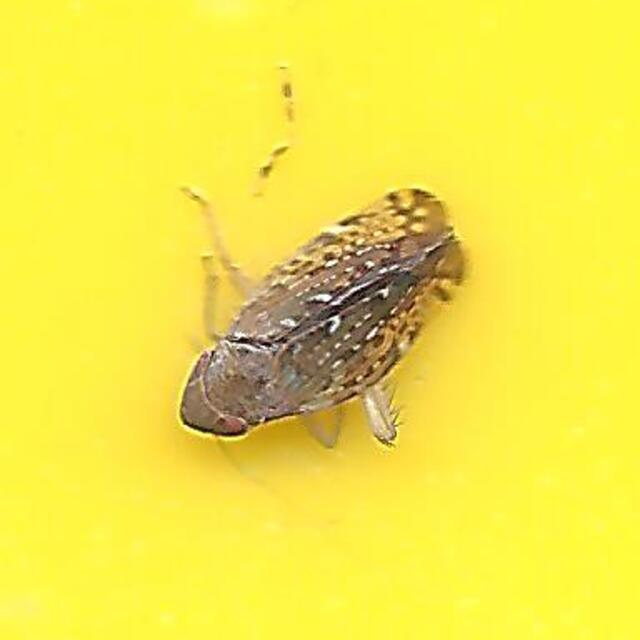Hemiptera: (167, 176, 473, 464)
